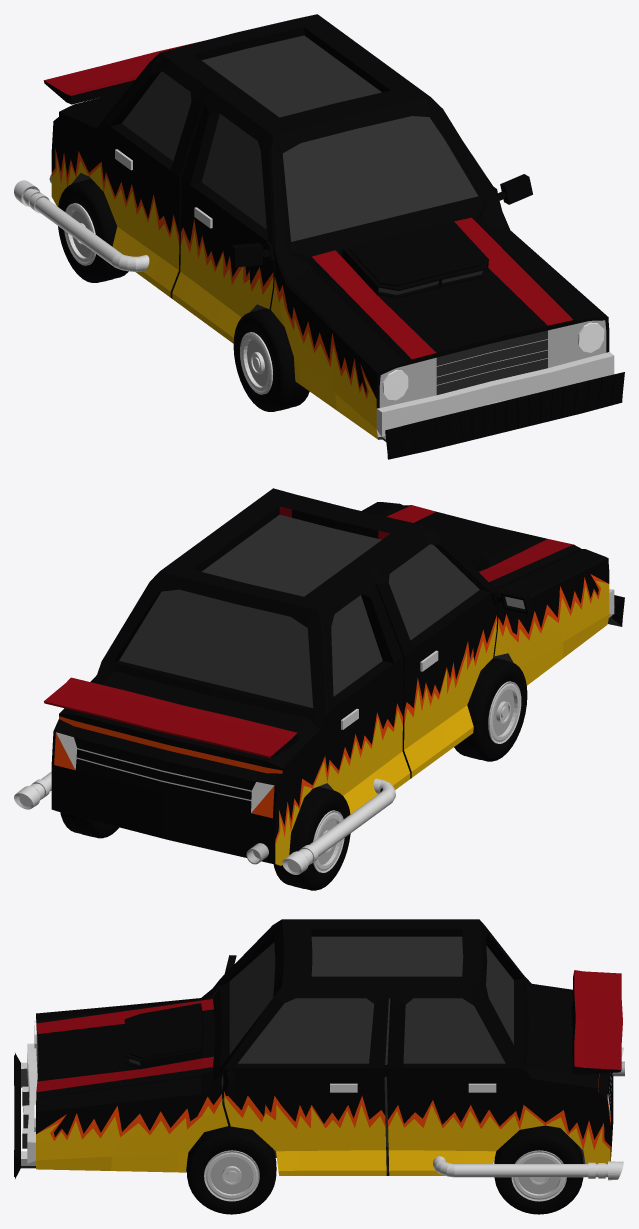
Rendered from CR-CAR-18B.fbx.
3 renders of one model, top to bottom at view 1: azimuth 30°, elevation 25°; view 2: azimuth 150°, elevation 25°; view 3: azimuth 270°, elevation 25°, orthographic. The views are drawn at different scales.
Visible parts, largest first — view 1: BODY, WHEEL.001, WHEEL.004; view 2: BODY, WHEEL.001, WHEEL.004, WHEEL.002; view 3: BODY, WHEEL.003, WHEEL.002.
Boxes of the visible parts, <box> form: BODY: <box>14,14,624,459</box>; WHEEL.001: <box>233,308,309,411</box>; WHEEL.004: <box>58,179,128,282</box>; BODY: <box>14,488,624,874</box>; WHEEL.001: <box>454,657,527,761</box>; WHEEL.004: <box>273,787,350,890</box>; WHEEL.002: <box>60,812,119,838</box>; BODY: <box>14,919,623,1180</box>; WHEEL.003: <box>186,1126,276,1214</box>; WHEEL.002: <box>494,1125,583,1214</box>.
Bounding box in the file's own units: 131 × 102 × 266.
